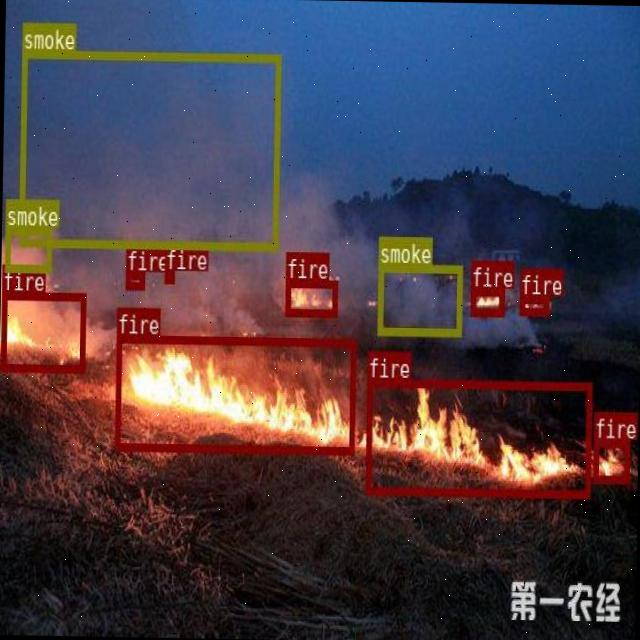fire: (113, 334, 354, 452), (364, 377, 591, 496), (0, 290, 84, 371), (284, 278, 337, 316), (592, 438, 628, 482), (469, 286, 504, 314), (520, 294, 548, 314), (125, 271, 144, 287), (162, 270, 172, 282)
smoke: (18, 49, 280, 249), (377, 262, 461, 334), (2, 224, 50, 272)
